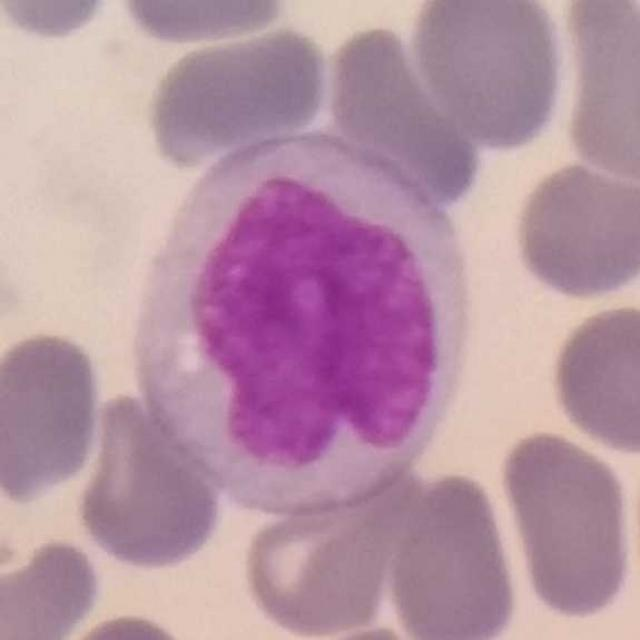Monocyte: (136, 119, 476, 519)
RBC: (325, 18, 500, 207), (236, 469, 424, 640), (70, 385, 228, 576), (139, 19, 334, 171), (495, 423, 639, 624), (380, 464, 524, 640), (405, 0, 571, 152), (0, 325, 108, 509), (509, 157, 639, 303), (555, 0, 639, 190), (545, 298, 640, 458), (0, 532, 106, 640), (112, 0, 300, 48), (0, 0, 119, 46), (41, 609, 203, 640), (290, 621, 462, 640), (626, 426, 640, 618)
